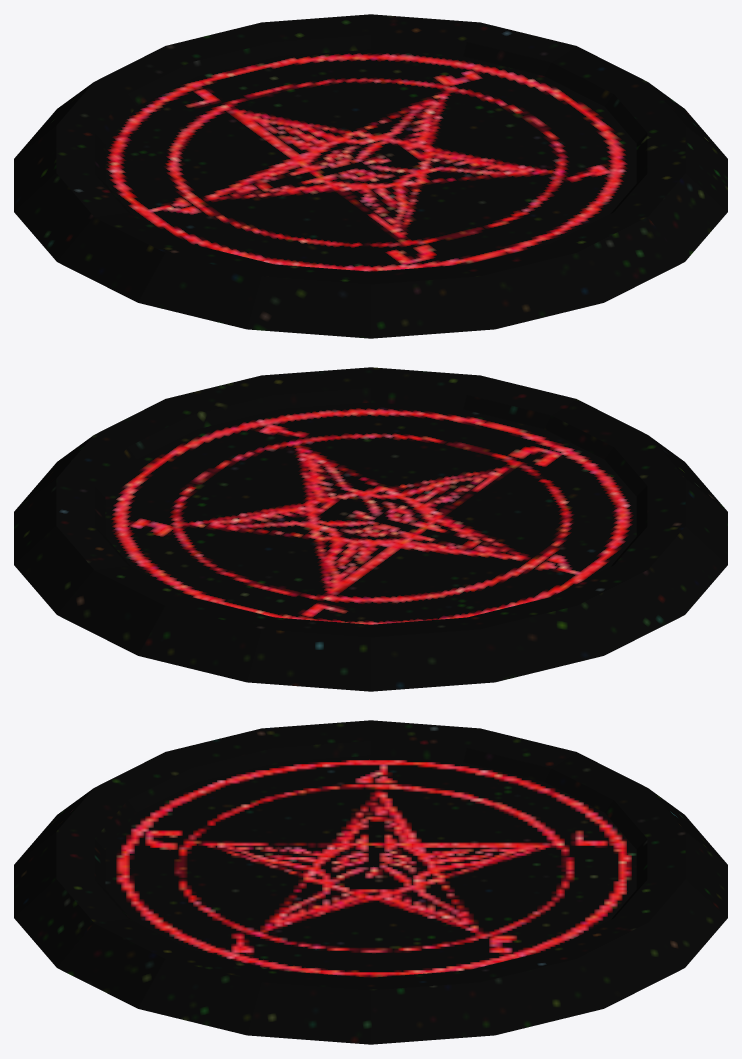
File: Pentagram.FBX
The picture shows the model from 3 angles, top to bottom: view 1: azimuth 30°, elevation 25°; view 2: azimuth 150°, elevation 25°; view 3: azimuth 270°, elevation 25°; orthographic projection.
Visible parts, largest first — view 1: Cylinder01; view 2: Cylinder01; view 3: Cylinder01.
Boxes of the visible parts, x1=… form: Cylinder01: x1=14, y1=14, x2=727, y2=338; Cylinder01: x1=14, y1=367, x2=727, y2=691; Cylinder01: x1=14, y1=720, x2=727, y2=1044.
Bounding box in the file's own units: 113 × 112 × 6.23.
Materials: 1 (1 with a texture image).
